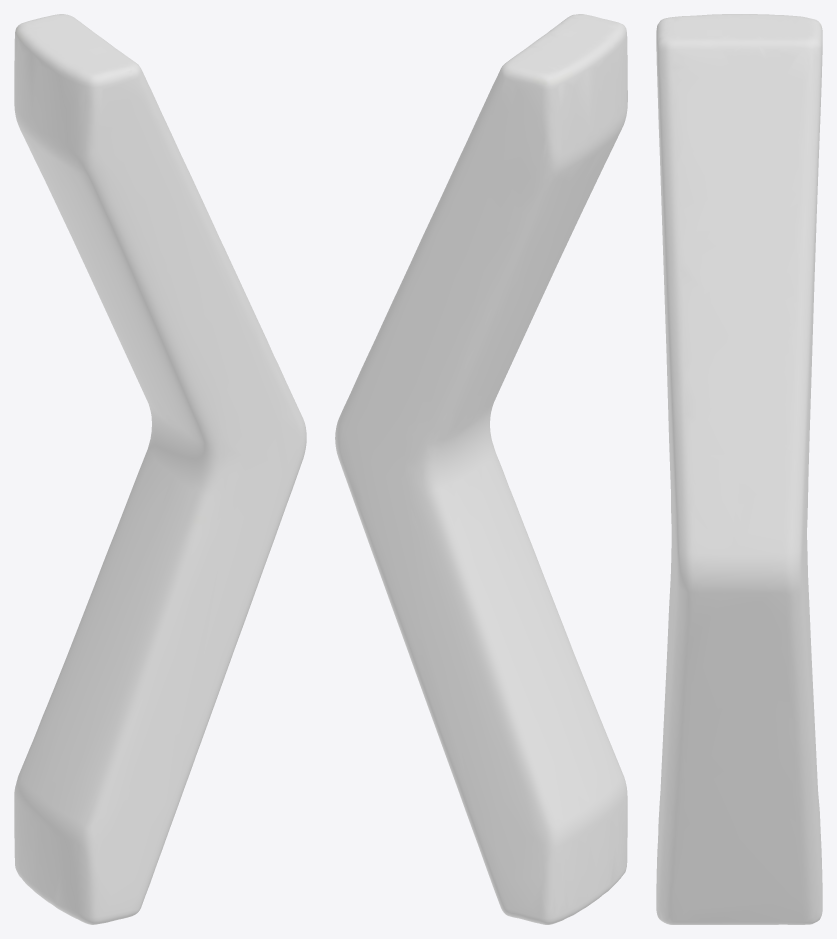
The model's file is bracket-right.glb.
The picture shows the model from 3 angles, left to right: view 1: azimuth 30°, elevation 25°; view 2: azimuth 150°, elevation 25°; view 3: azimuth 270°, elevation 25°; orthographic projection. The views are drawn at different scales.
Bounding box in the file's own units: 0.564 × 1.9 × 0.3237.
Materials: 1 (1 with a texture image).
